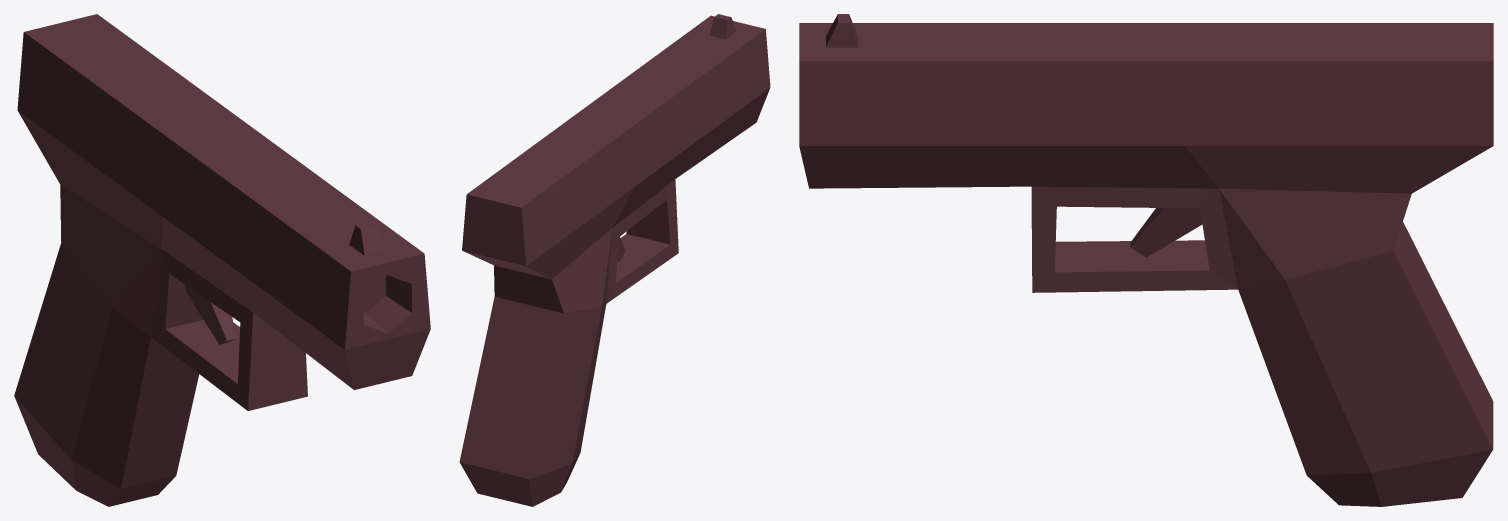
Rendered from pistol.fbx.
3 views of the same model, side by side, from view 1: azimuth 30°, elevation 25°; view 2: azimuth 150°, elevation 25°; view 3: azimuth 270°, elevation 25° (orthographic). The views are drawn at different scales.
Visible parts, largest first — view 1: pistol; view 2: pistol; view 3: pistol.
Part boxes in pixels (x1,y1,x2,y2): pistol: [14, 14, 430, 506]; pistol: [459, 14, 770, 506]; pistol: [799, 14, 1493, 506].
Size of the model in its own units: 0.0304 by 0.1393 by 0.185.
